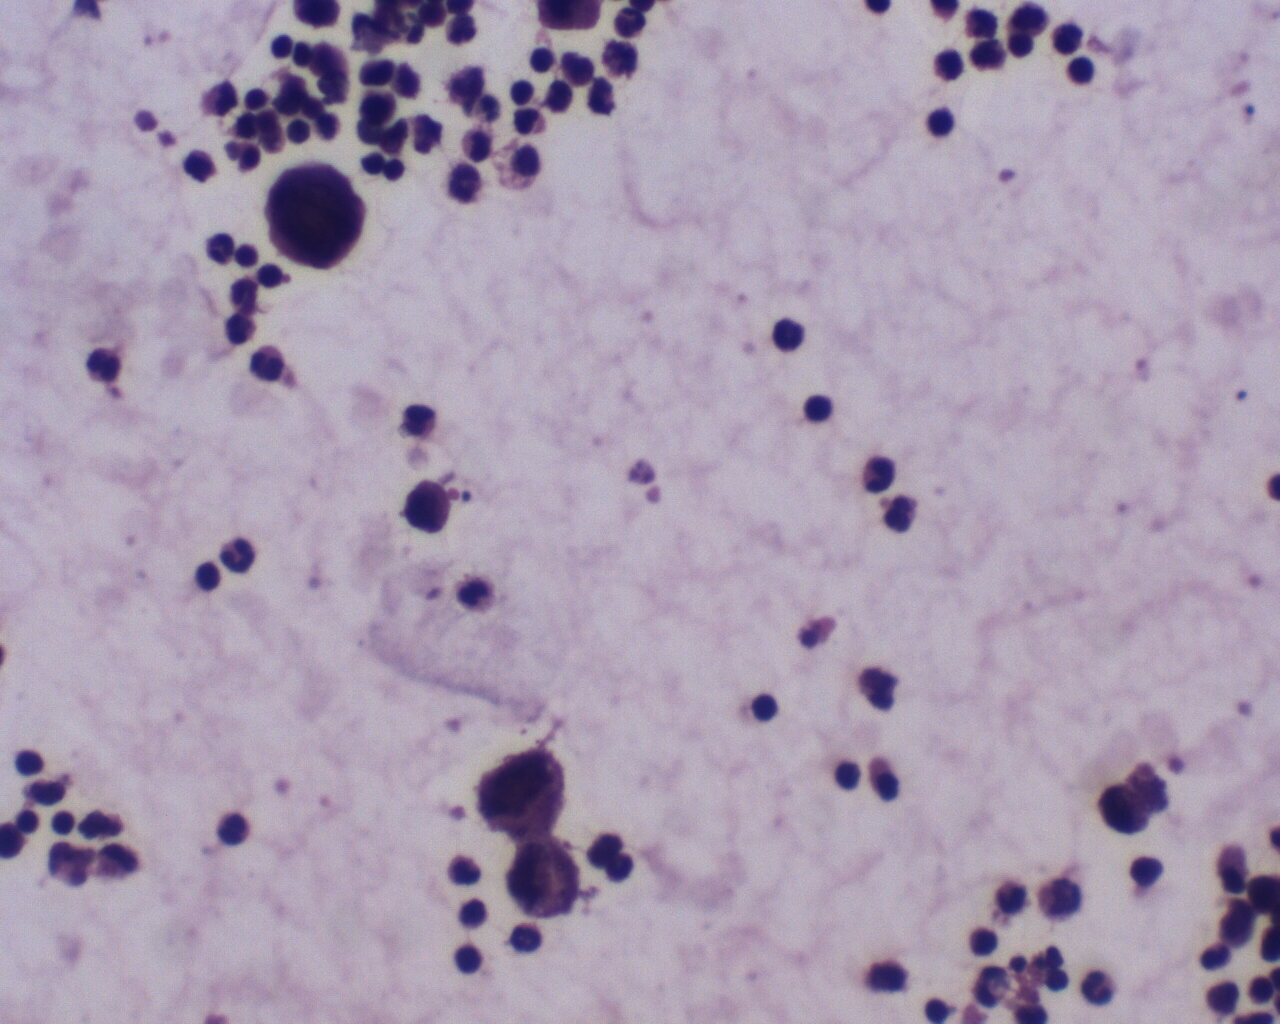ab: (258, 159, 367, 269), (475, 750, 571, 839), (498, 837, 587, 925), (395, 475, 462, 537)
lymph: (1062, 51, 1099, 90), (968, 922, 1006, 958), (453, 939, 487, 979), (927, 104, 962, 141), (525, 42, 562, 75), (832, 757, 866, 792), (800, 393, 835, 427), (749, 693, 782, 725), (508, 75, 542, 106)
neutro: (1077, 961, 1126, 1013), (242, 336, 289, 389), (453, 572, 498, 618), (83, 343, 127, 388), (858, 453, 901, 496), (217, 534, 258, 575)
